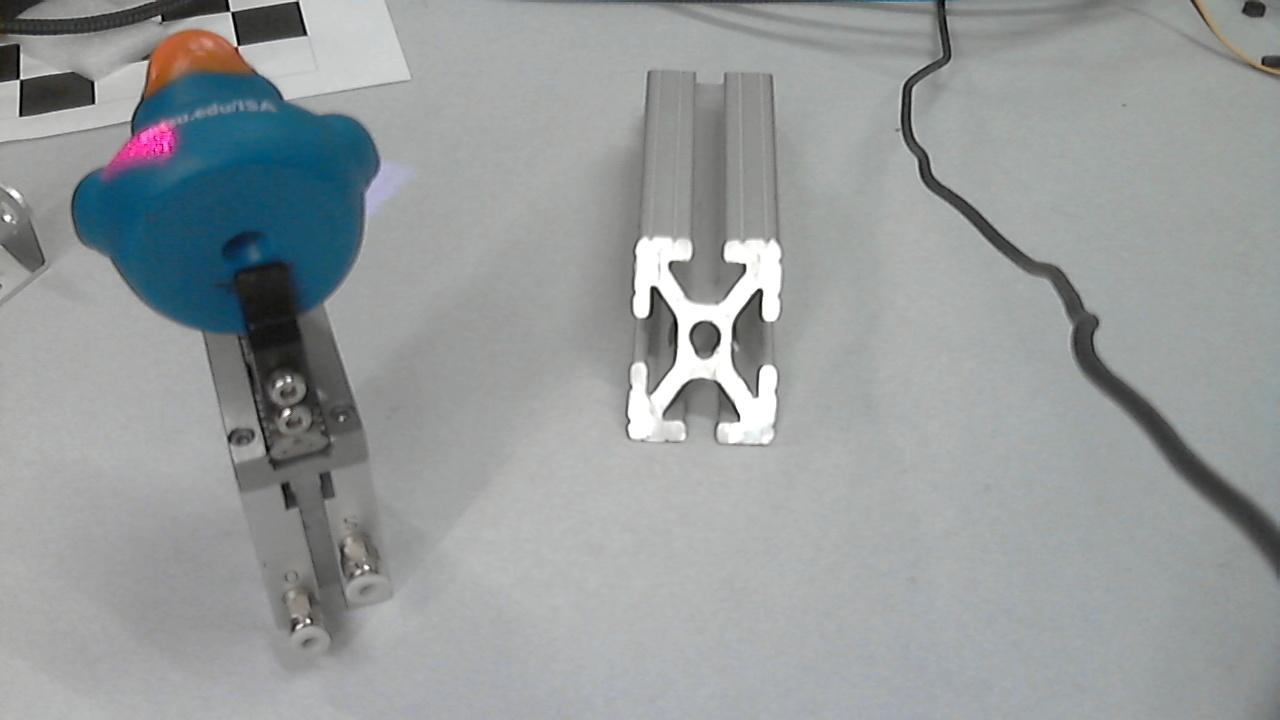Object rubber duck - Material rubber -Color blue - Pdfname BWuUnwTLudUE: (98, 128, 203, 198)
